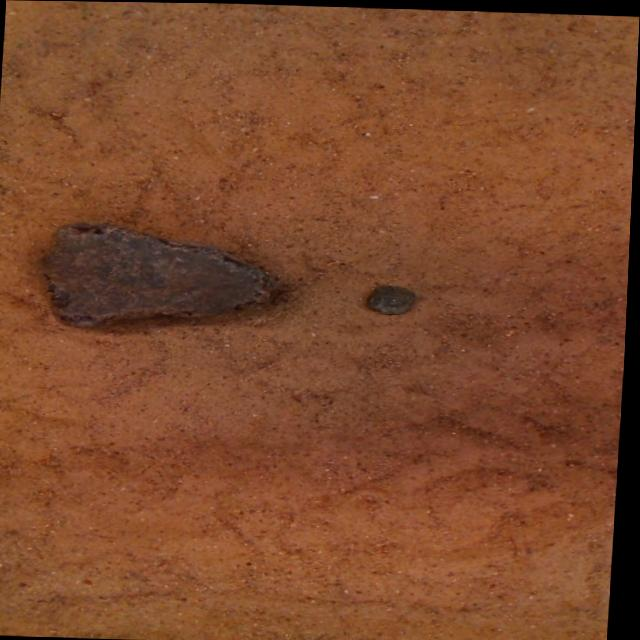rock: (44, 222, 279, 326), (370, 284, 416, 311)
